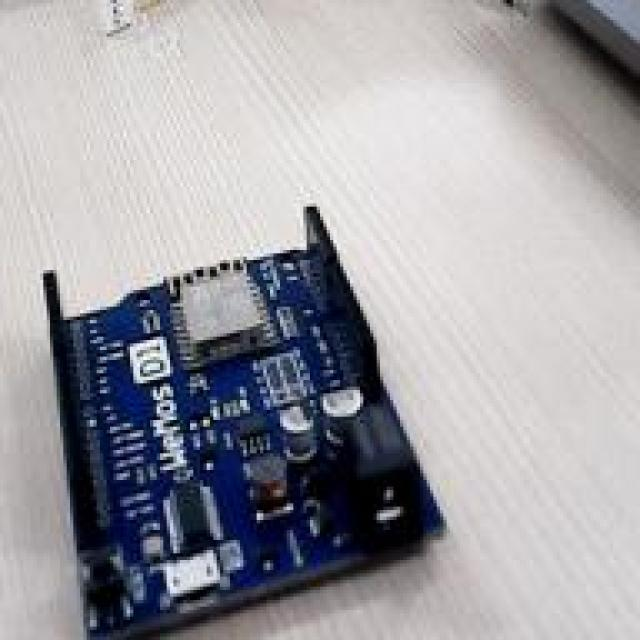Wemos: (44, 208, 438, 638)
